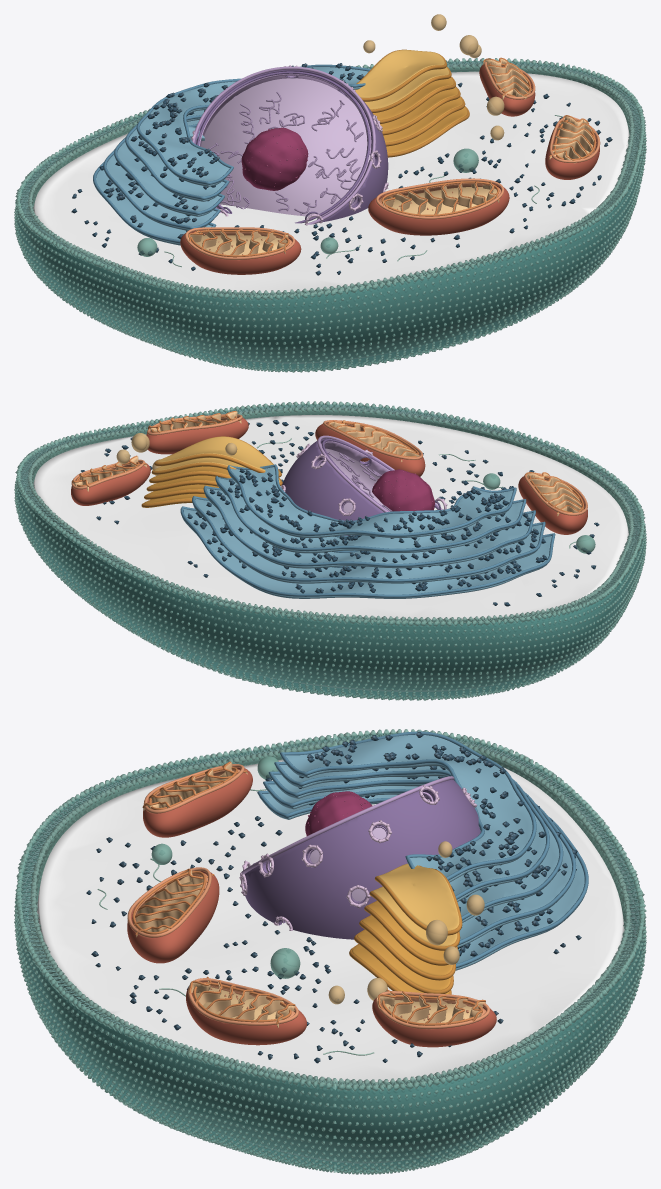
3 renders of one model, top to bottom at view 1: azimuth 30°, elevation 25°; view 2: azimuth 150°, elevation 25°; view 3: azimuth 270°, elevation 25°, orthographic. The views are drawn at different scales.
Visible parts, largest first — view 1: Cytoplasm | hydrated micro-turbid section.001, Plasma membrane | outer translucent leaflet.001, Plasma membrane | inner translucent leaflet.001, Phospholipids | tessellated exterior head groups.001, Nucleoplasm | recessed opalescent section.001, Phospholipids | cut edge • outer polar heads.001, Phospholipids | cut edge • inner polar heads.001, Rough ER | cisterna 05.001, Nucleolus | dense raspberry condensate.001, Phospholipids | opposing paired acyl chains.001, Mito 01 | opened outer membrane.001, Chromatin | distributed nucleoprotein fibres.001 (+31 smaller); view 2: Plasma membrane | outer translucent leaflet.001, Cytoplasm | hydrated micro-turbid section.001, Plasma membrane | inner translucent leaflet.001, Phospholipids | tessellated exterior head groups.001, Phospholipids | cut edge • outer polar heads.001, Bound ribosomes | large subunits on rough ER.001, Phospholipids | cut edge • inner polar heads.001, Rough ER | cisterna 05.001, Rough ER | cisterna 01.001, Rough ER | cisterna 02.001, Rough ER | cisterna 03.001, Nuclear envelope | outer membrane • opened.001 (+25 smaller); view 3: Cytoplasm | hydrated micro-turbid section.001, Plasma membrane | outer translucent leaflet.001, Plasma membrane | inner translucent leaflet.001, Phospholipids | tessellated exterior head groups.001, Nuclear envelope | outer membrane • opened.001, Phospholipids | cut edge • outer polar heads.001, Rough ER | cisterna 05.001, Phospholipids | cut edge • inner polar heads.001, Phospholipids | opposing paired acyl chains.001, Phospholipids | interior head groups at section.001, Bound ribosomes | large subunits on rough ER.001, Golgi | smooth cisterna 06 • trans face.001 (+30 smaller).
Part boxes in pixels (bbox=[...]): Cytoplasm | hydrated micro-turbid section.001: bbox=[33, 71, 629, 363]; Plasma membrane | outer translucent leaflet.001: bbox=[16, 61, 644, 370]; Plasma membrane | inner translucent leaflet.001: bbox=[29, 66, 633, 361]; Phospholipids | tessellated exterior head groups.001: bbox=[14, 66, 646, 372]; Nucleoplasm | recessed opalescent section.001: bbox=[201, 78, 370, 216]; Phospholipids | cut edge • outer polar heads.001: bbox=[15, 58, 645, 300]; Phospholipids | cut edge • inner polar heads.001: bbox=[27, 63, 634, 295]; Rough ER | cisterna 05.001: bbox=[138, 67, 368, 186]; Nucleolus | dense raspberry condensate.001: bbox=[241, 127, 308, 190]; Phospholipids | opposing paired acyl chains.001: bbox=[20, 61, 640, 296]; Mito 01 | opened outer membrane.001: bbox=[368, 183, 509, 235]; Chromatin | distributed nucleoprotein fibres.001: bbox=[209, 91, 363, 214]; Plasma membrane | outer translucent leaflet.001: bbox=[16, 404, 644, 698]; Cytoplasm | hydrated micro-turbid section.001: bbox=[33, 415, 628, 691]; Plasma membrane | inner translucent leaflet.001: bbox=[28, 409, 632, 689]; Phospholipids | tessellated exterior head groups.001: bbox=[14, 409, 646, 700]; Phospholipids | cut edge • outer polar heads.001: bbox=[15, 401, 645, 626]; Bound ribosomes | large subunits on rough ER.001: bbox=[187, 469, 547, 593]; Phospholipids | cut edge • inner polar heads.001: bbox=[28, 407, 634, 622]; Rough ER | cisterna 05.001: bbox=[228, 467, 513, 538]; Rough ER | cisterna 01.001: bbox=[182, 509, 551, 598]; Rough ER | cisterna 02.001: bbox=[193, 498, 542, 583]; Rough ER | cisterna 03.001: bbox=[205, 488, 532, 568]; Nuclear envelope | outer membrane • opened.001: bbox=[282, 438, 434, 535]; Cytoplasm | hydrated micro-turbid section.001: bbox=[37, 759, 624, 1163]; Plasma membrane | outer translucent leaflet.001: bbox=[16, 733, 644, 1172]; Plasma membrane | inner translucent leaflet.001: bbox=[32, 744, 629, 1161]; Phospholipids | tessellated exterior head groups.001: bbox=[14, 746, 646, 1174]; Nuclear envelope | outer membrane • opened.001: bbox=[243, 779, 480, 939]; Phospholipids | cut edge • outer polar heads.001: bbox=[15, 729, 646, 1091]; Rough ER | cisterna 05.001: bbox=[281, 734, 532, 882]; Phospholipids | cut edge • inner polar heads.001: bbox=[30, 736, 631, 1085]; Phospholipids | opposing paired acyl chains.001: bbox=[21, 733, 639, 1086]; Phospholipids | interior head groups at section.001: bbox=[28, 758, 632, 1111]; Bound ribosomes | large subunits on rough ER.001: bbox=[298, 732, 577, 956]; Golgi | smooth cisterna 06 • trans face.001: bbox=[378, 863, 459, 930].
Size of the model in its own units: 1.21 by 0.4614 by 0.8983.
